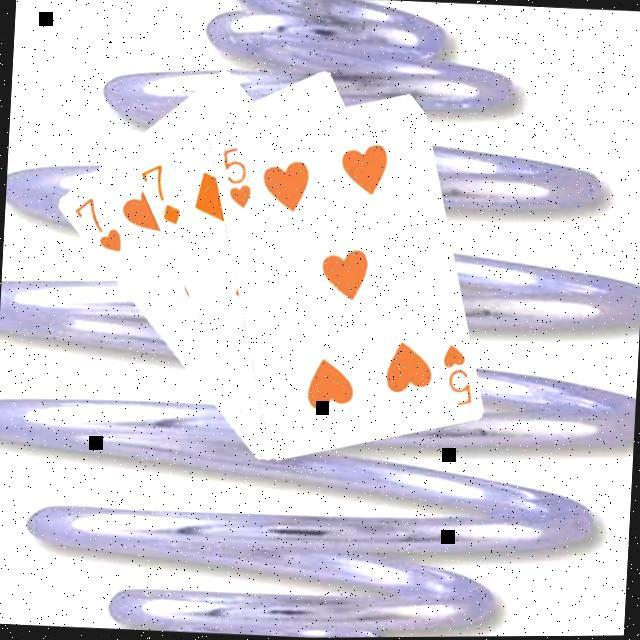5H: (435, 339, 477, 410), (214, 141, 256, 211)
7D: (136, 158, 185, 228)
7H: (67, 192, 126, 255)
